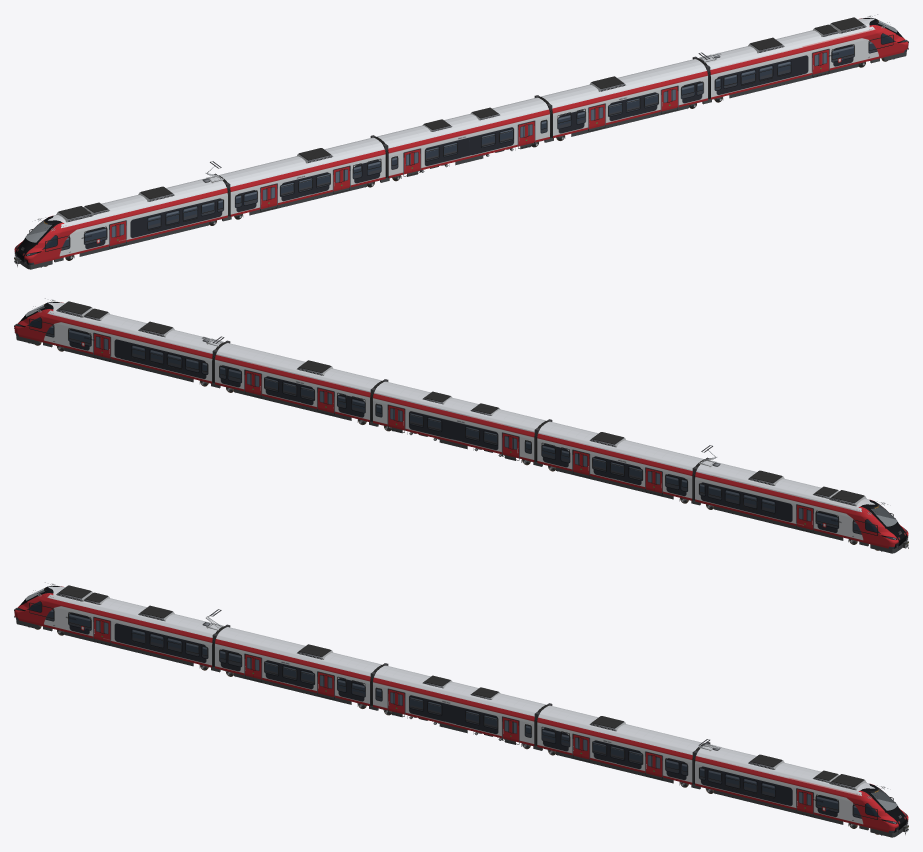
File: ELFKW_przed_szyby.glb
The picture shows the model from 3 angles, top to bottom: view 1: azimuth 30°, elevation 25°; view 2: azimuth 150°, elevation 25°; view 3: azimuth 330°, elevation 25°; orthographic projection.
Visible parts, largest first — view 1: FL_czlon1, FL_czlon5, FL_czlon3, FL_czlon2, FL_czlon4, FL_guma, FL_fartuch, FL_ryfl, FL_dach, FL_inox; view 2: FL_czlon1, FL_czlon5, FL_czlon3, FL_czlon2, FL_czlon4, FL_guma, FL_fartuch, FL_ryfl, FL_dach, FL_inox; view 3: FL_czlon5, FL_czlon1, FL_czlon3, FL_czlon2, FL_czlon4, FL_guma, FL_fartuch, FL_ryfl, FL_dach, FL_inox.
Part boxes in pixels (x1,y1,x2,y2): FL_czlon1: (14, 177, 227, 264); FL_czlon5: (698, 18, 908, 99); FL_czlon3: (376, 97, 549, 178); FL_czlon2: (219, 137, 385, 216); FL_czlon4: (541, 59, 707, 137); FL_guma: (15, 34, 908, 266); FL_fartuch: (20, 51, 906, 269); FL_ryfl: (59, 17, 864, 218); FL_dach: (58, 23, 865, 221); FL_inox: (38, 15, 884, 231); FL_czlon1: (695, 461, 908, 548); FL_czlon5: (14, 302, 224, 383); FL_czlon3: (373, 381, 546, 462); FL_czlon2: (537, 421, 703, 500); FL_czlon4: (215, 343, 381, 421); FL_guma: (29, 318, 908, 548); FL_fartuch: (16, 335, 902, 553); FL_ryfl: (58, 301, 863, 502); FL_dach: (57, 307, 864, 505); FL_inox: (38, 299, 884, 515); FL_czlon5: (695, 744, 908, 832); FL_czlon1: (14, 586, 224, 667); FL_czlon3: (373, 665, 546, 746); FL_czlon2: (215, 627, 381, 705); FL_czlon4: (537, 705, 703, 784); FL_guma: (14, 602, 907, 834); FL_fartuch: (16, 619, 902, 837); FL_ryfl: (58, 585, 863, 786); FL_dach: (57, 591, 864, 789); FL_inox: (38, 583, 884, 799).
Size of the model in its own units: 93.04 by 5.6 by 2.98.
Materials: 31 (7 with a texture image).
